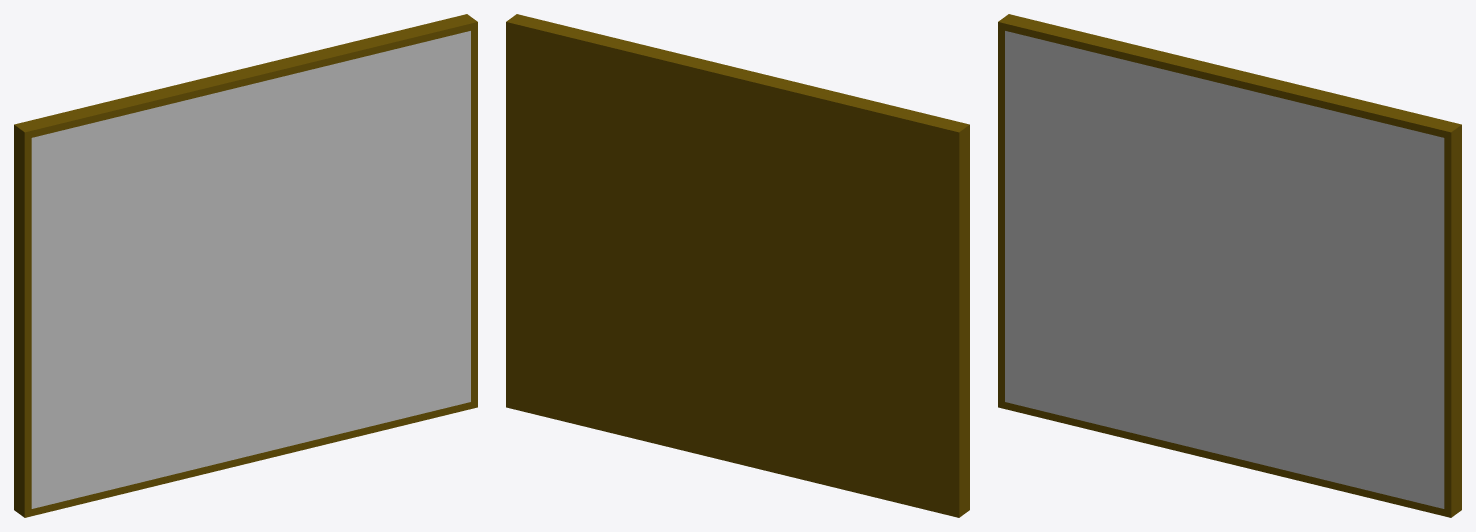
The model's file is Painting1.fbx.
The picture shows the model from 3 angles, left to right: view 1: azimuth 30°, elevation 25°; view 2: azimuth 150°, elevation 25°; view 3: azimuth 330°, elevation 25°; orthographic projection.
Visible parts, largest first — view 1: Cube.040; view 2: Cube.040; view 3: Cube.040.
Boxes of the visible parts, <box> form: Cube.040: <box>14,14,477,517</box>; Cube.040: <box>506,14,969,517</box>; Cube.040: <box>998,14,1461,517</box>.
Size of the model in its own units: 111 by 89.87 by 4.55.
